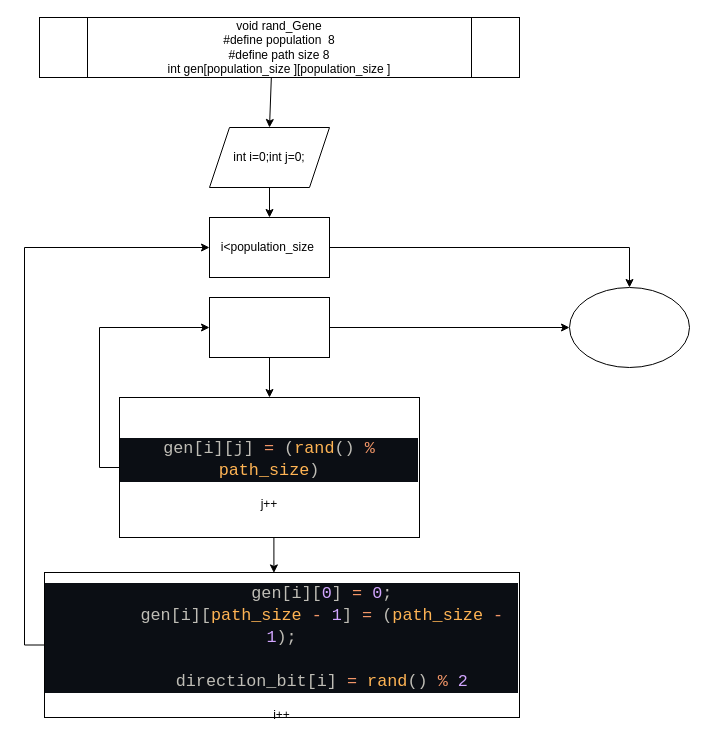
Some shapes in this 707 by 739 pixel diagram are drawn without their labels. Here are the shapes that lost their labels. From the top down, the centre of each, then its label:
At point 269,327: "j<population_size".
At point 629,327: "exit".
